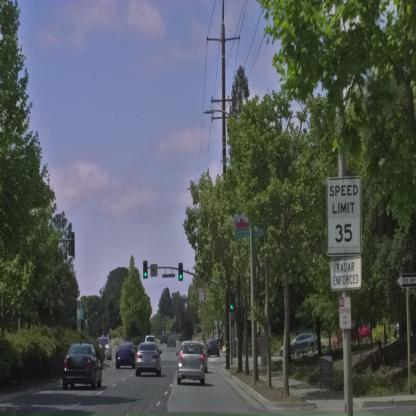car: (64, 344, 102, 390), (177, 341, 207, 384), (276, 332, 320, 360), (135, 344, 162, 377), (115, 343, 136, 369), (206, 341, 219, 358), (145, 336, 157, 344)
